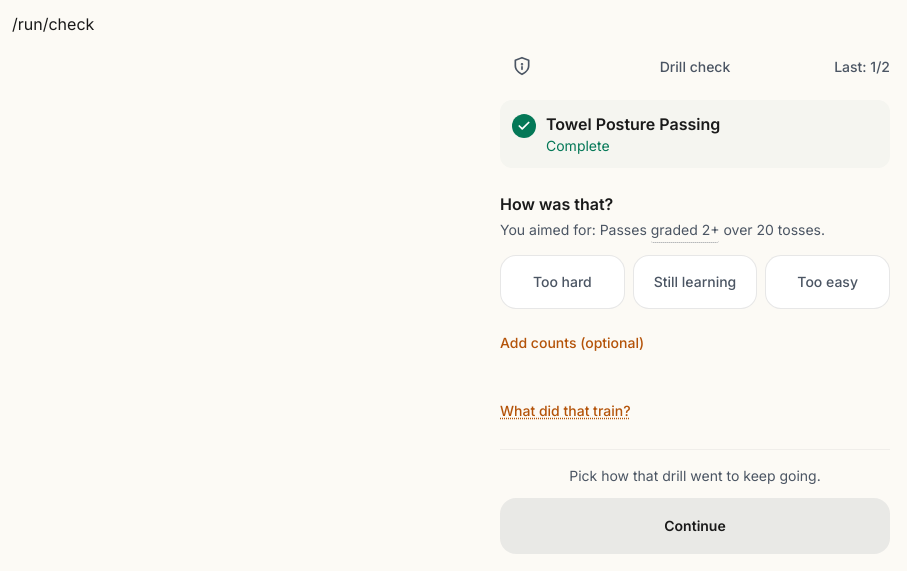
Test: DrillCheckScreen per-drill capture (Item 9 / D133) › renders the capture card and gates Continue until a chip is tapped
The image size is (907, 571).
Expected: the element with test id "per-drill-capture" is shown, [500,192,890,365]
Expected: the button "Continue" is disabled, [500,498,890,554]
Click the radio button labelled "Still learning" at (695, 282), box [633,255,757,309]
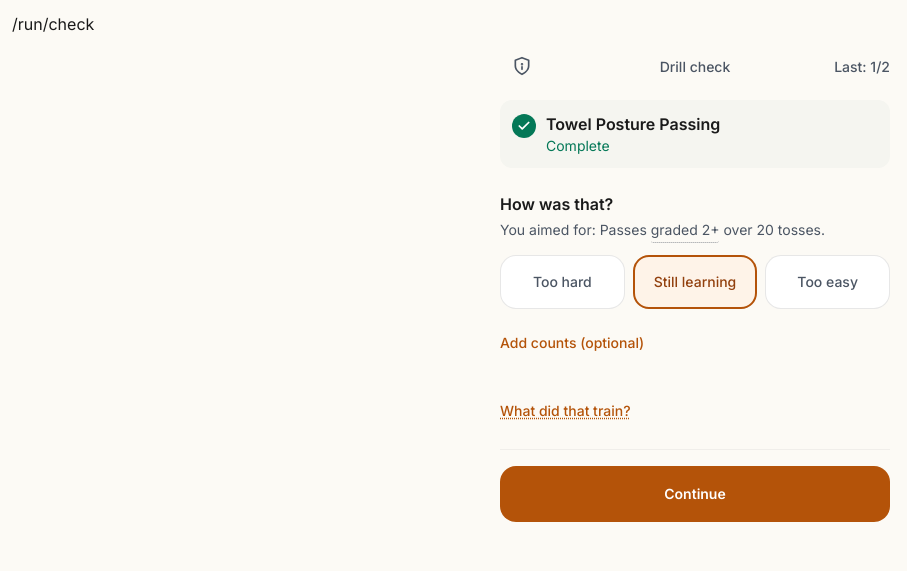
Expected: the button "Continue" is enabled, [500,466,890,522]
Expected: the text with test id "drill-check-gating-hint" is gone
